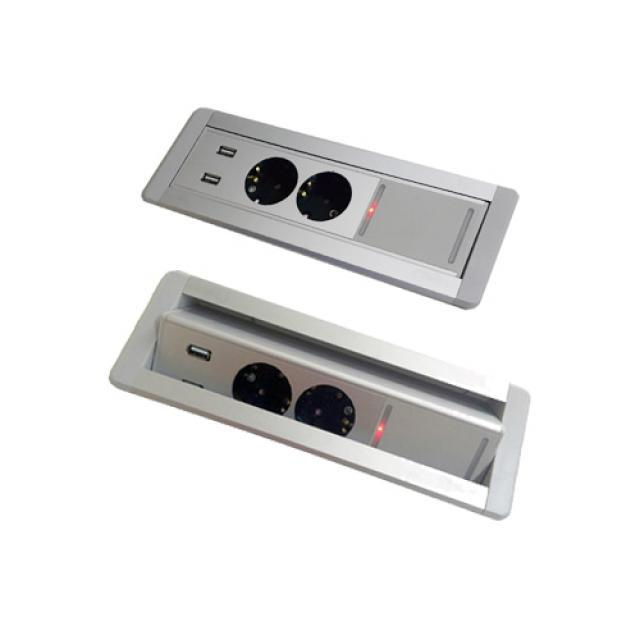typeb: (136, 304, 598, 528), (116, 108, 574, 268)
